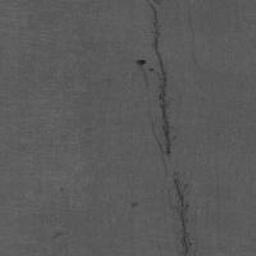Inclusion: (134, 0, 178, 177), (170, 172, 197, 256), (50, 230, 67, 239), (131, 201, 138, 207)
